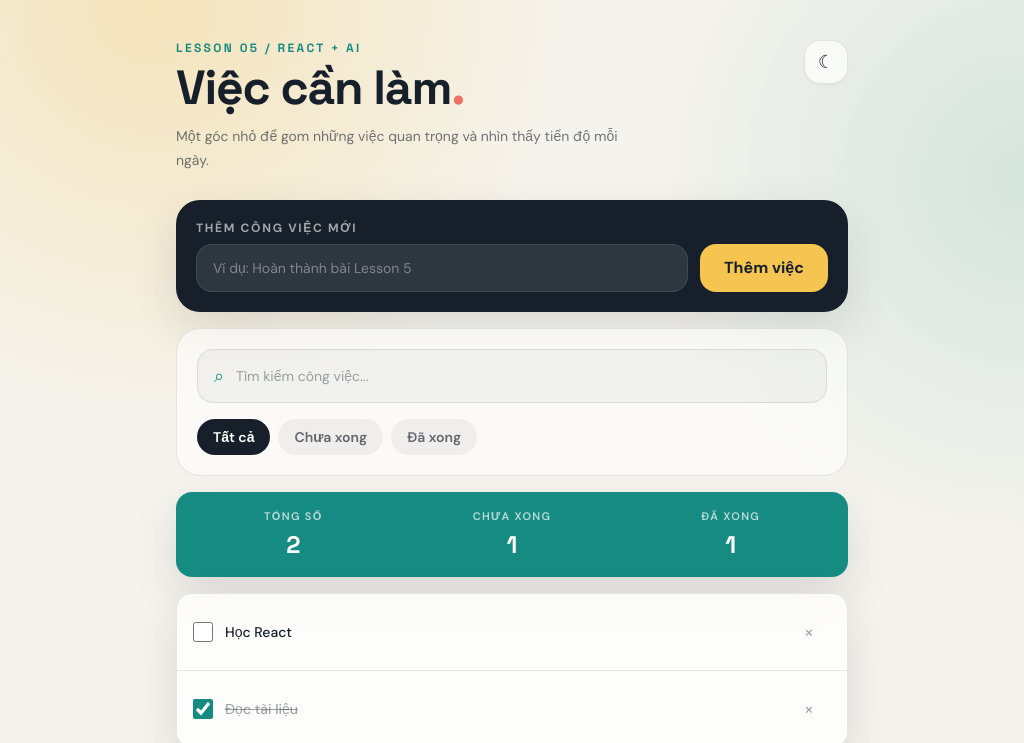
filters and searches todos
This screenshot has width=1024, height=743.
Click the button "Đã xong". click: (434, 437)
box: [391,419,477,455]
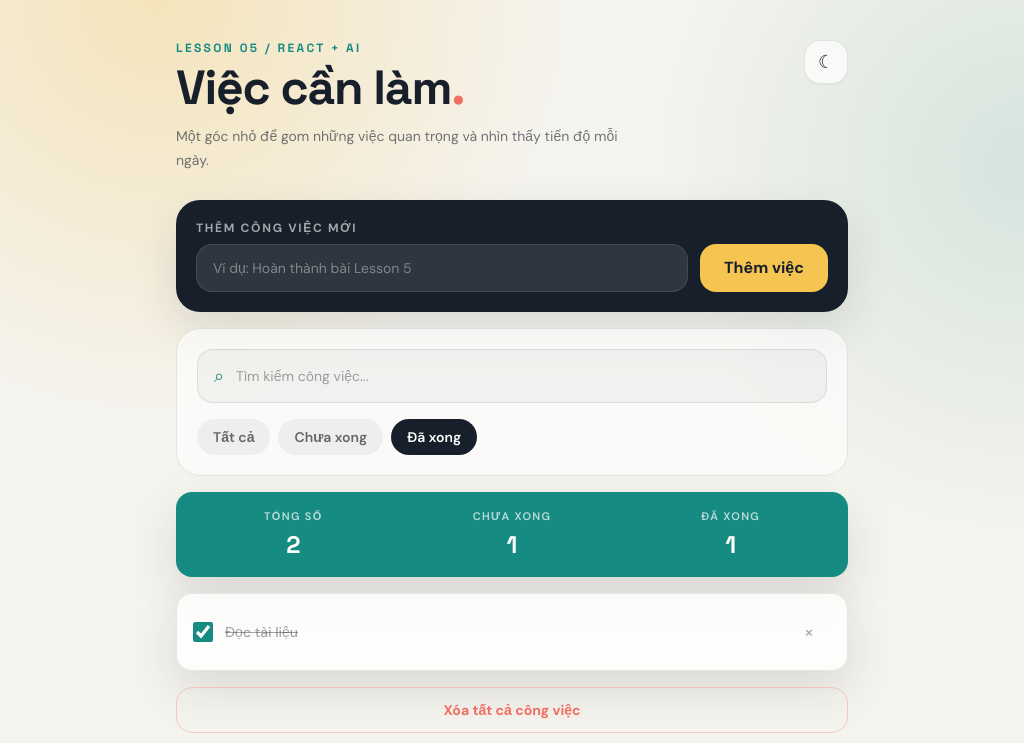
Expected: the text "Đọc tài liệu" is shown, [225,622,298,640]
Expected: the text "Học React" is gone
Type "không có" into the search field labelled "Tìm kiếm công việc". click: (523, 376)
box: [236,366,810,386]
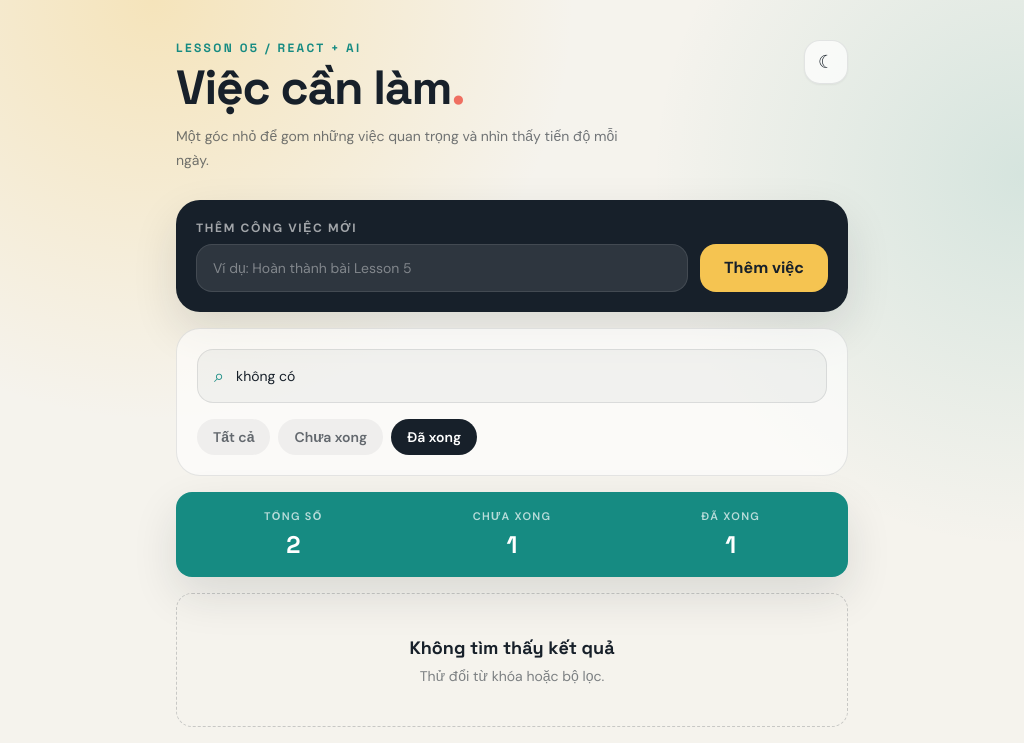
Expected: the text "Không tìm thấy kết quả" is shown, [409,636,614,658]
